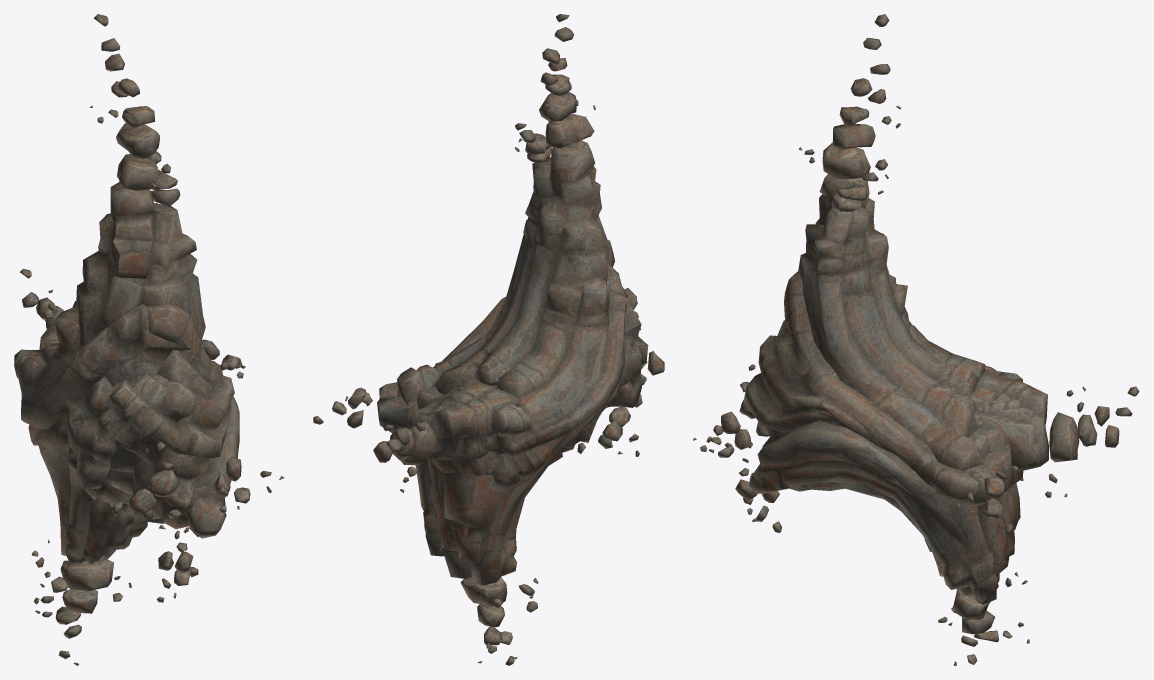
The model's file is bg_rad_kamen_rock02d_sm.obj.
The picture shows the model from 3 angles, left to right: view 1: azimuth 30°, elevation 25°; view 2: azimuth 150°, elevation 25°; view 3: azimuth 270°, elevation 25°; orthographic projection. The views are drawn at different scales.
Visible parts, largest first — view 1: bg_rad_kamen_rock02d_sm_0; view 2: bg_rad_kamen_rock02d_sm_0; view 3: bg_rad_kamen_rock02d_sm_0.
Part boxes in pixels (x1=…): bg_rad_kamen_rock02d_sm_0: x1=14, y1=14, x2=284, y2=665; bg_rad_kamen_rock02d_sm_0: x1=313, y1=14, x2=664, y2=665; bg_rad_kamen_rock02d_sm_0: x1=693, y1=14, x2=1139, y2=665.
Bounding box in the file's own units: 2.09 × 5.11 × 3.2.
1 material, 1 textured.
